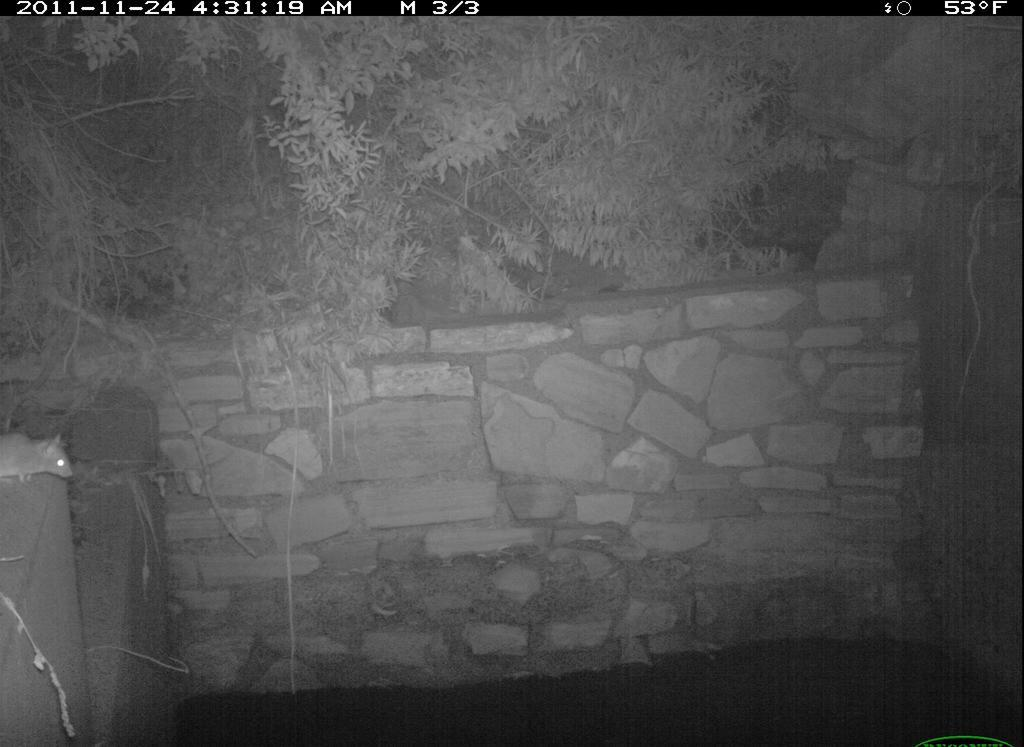rodent: (2, 415, 88, 498)
